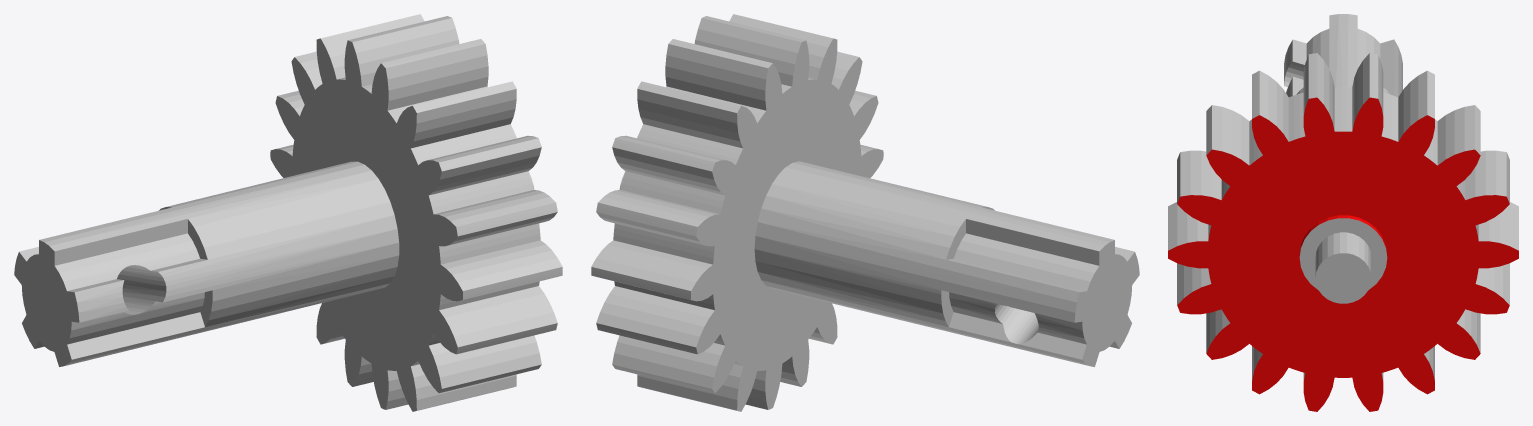
The model's file is Pinho_stp_16_90.obj.
The picture shows the model from 3 angles, left to right: view 1: azimuth 30°, elevation 25°; view 2: azimuth 150°, elevation 25°; view 3: azimuth 270°, elevation 25°; orthographic projection. The views are drawn at different scales.
Visible parts, largest first — view 1: Object1; view 2: Object1; view 3: Object1.
Boxes of the visible parts, box(x1,y1,x2,y2) form: Object1: box(14, 14, 562, 411); Object1: box(591, 14, 1139, 411); Object1: box(1168, 14, 1518, 411).
Bounding box in the file's own units: 71 × 49.44 × 50.
